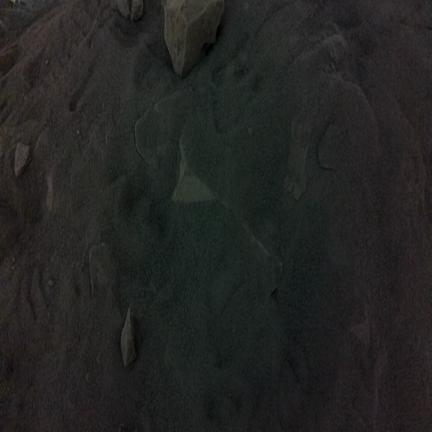Rock: (165, 0, 224, 77), (89, 244, 115, 297), (121, 306, 136, 366), (114, 0, 143, 21), (15, 143, 29, 176), (248, 127, 253, 135)
